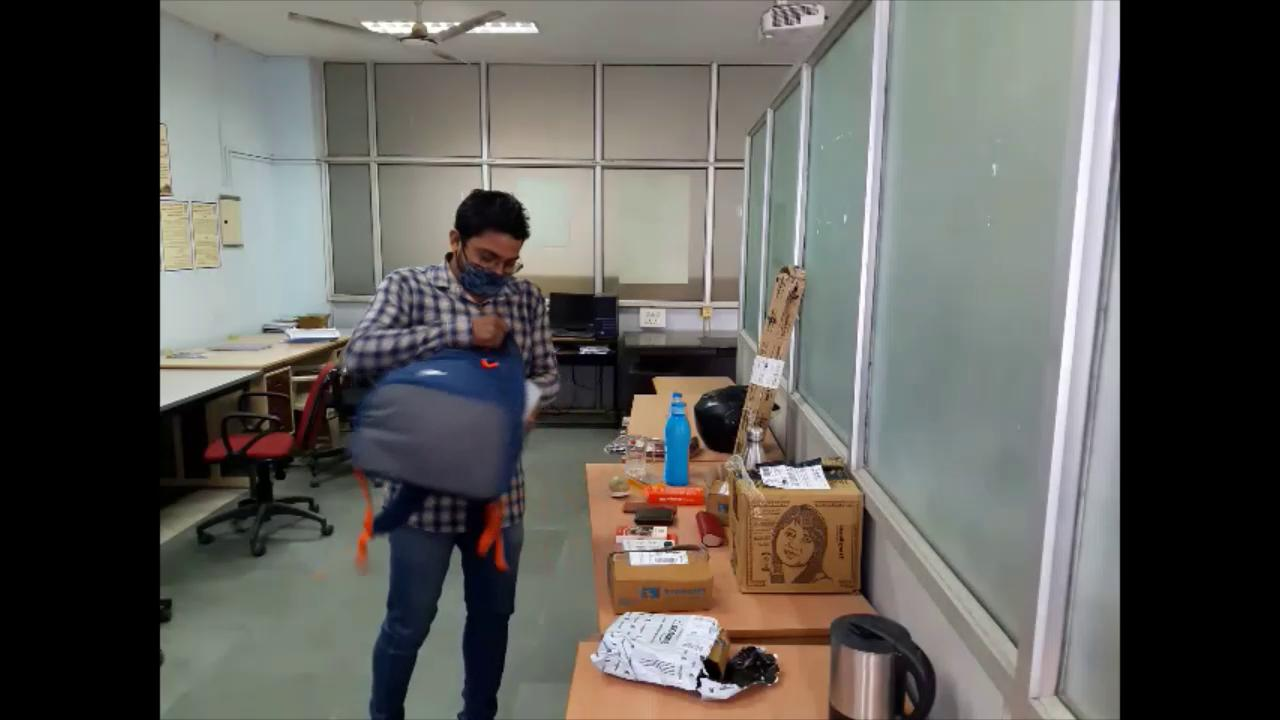shoplifting: (335, 187, 572, 720)
